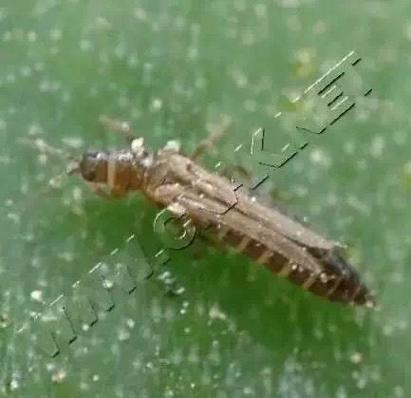Thripidae: (34, 131, 378, 313)
